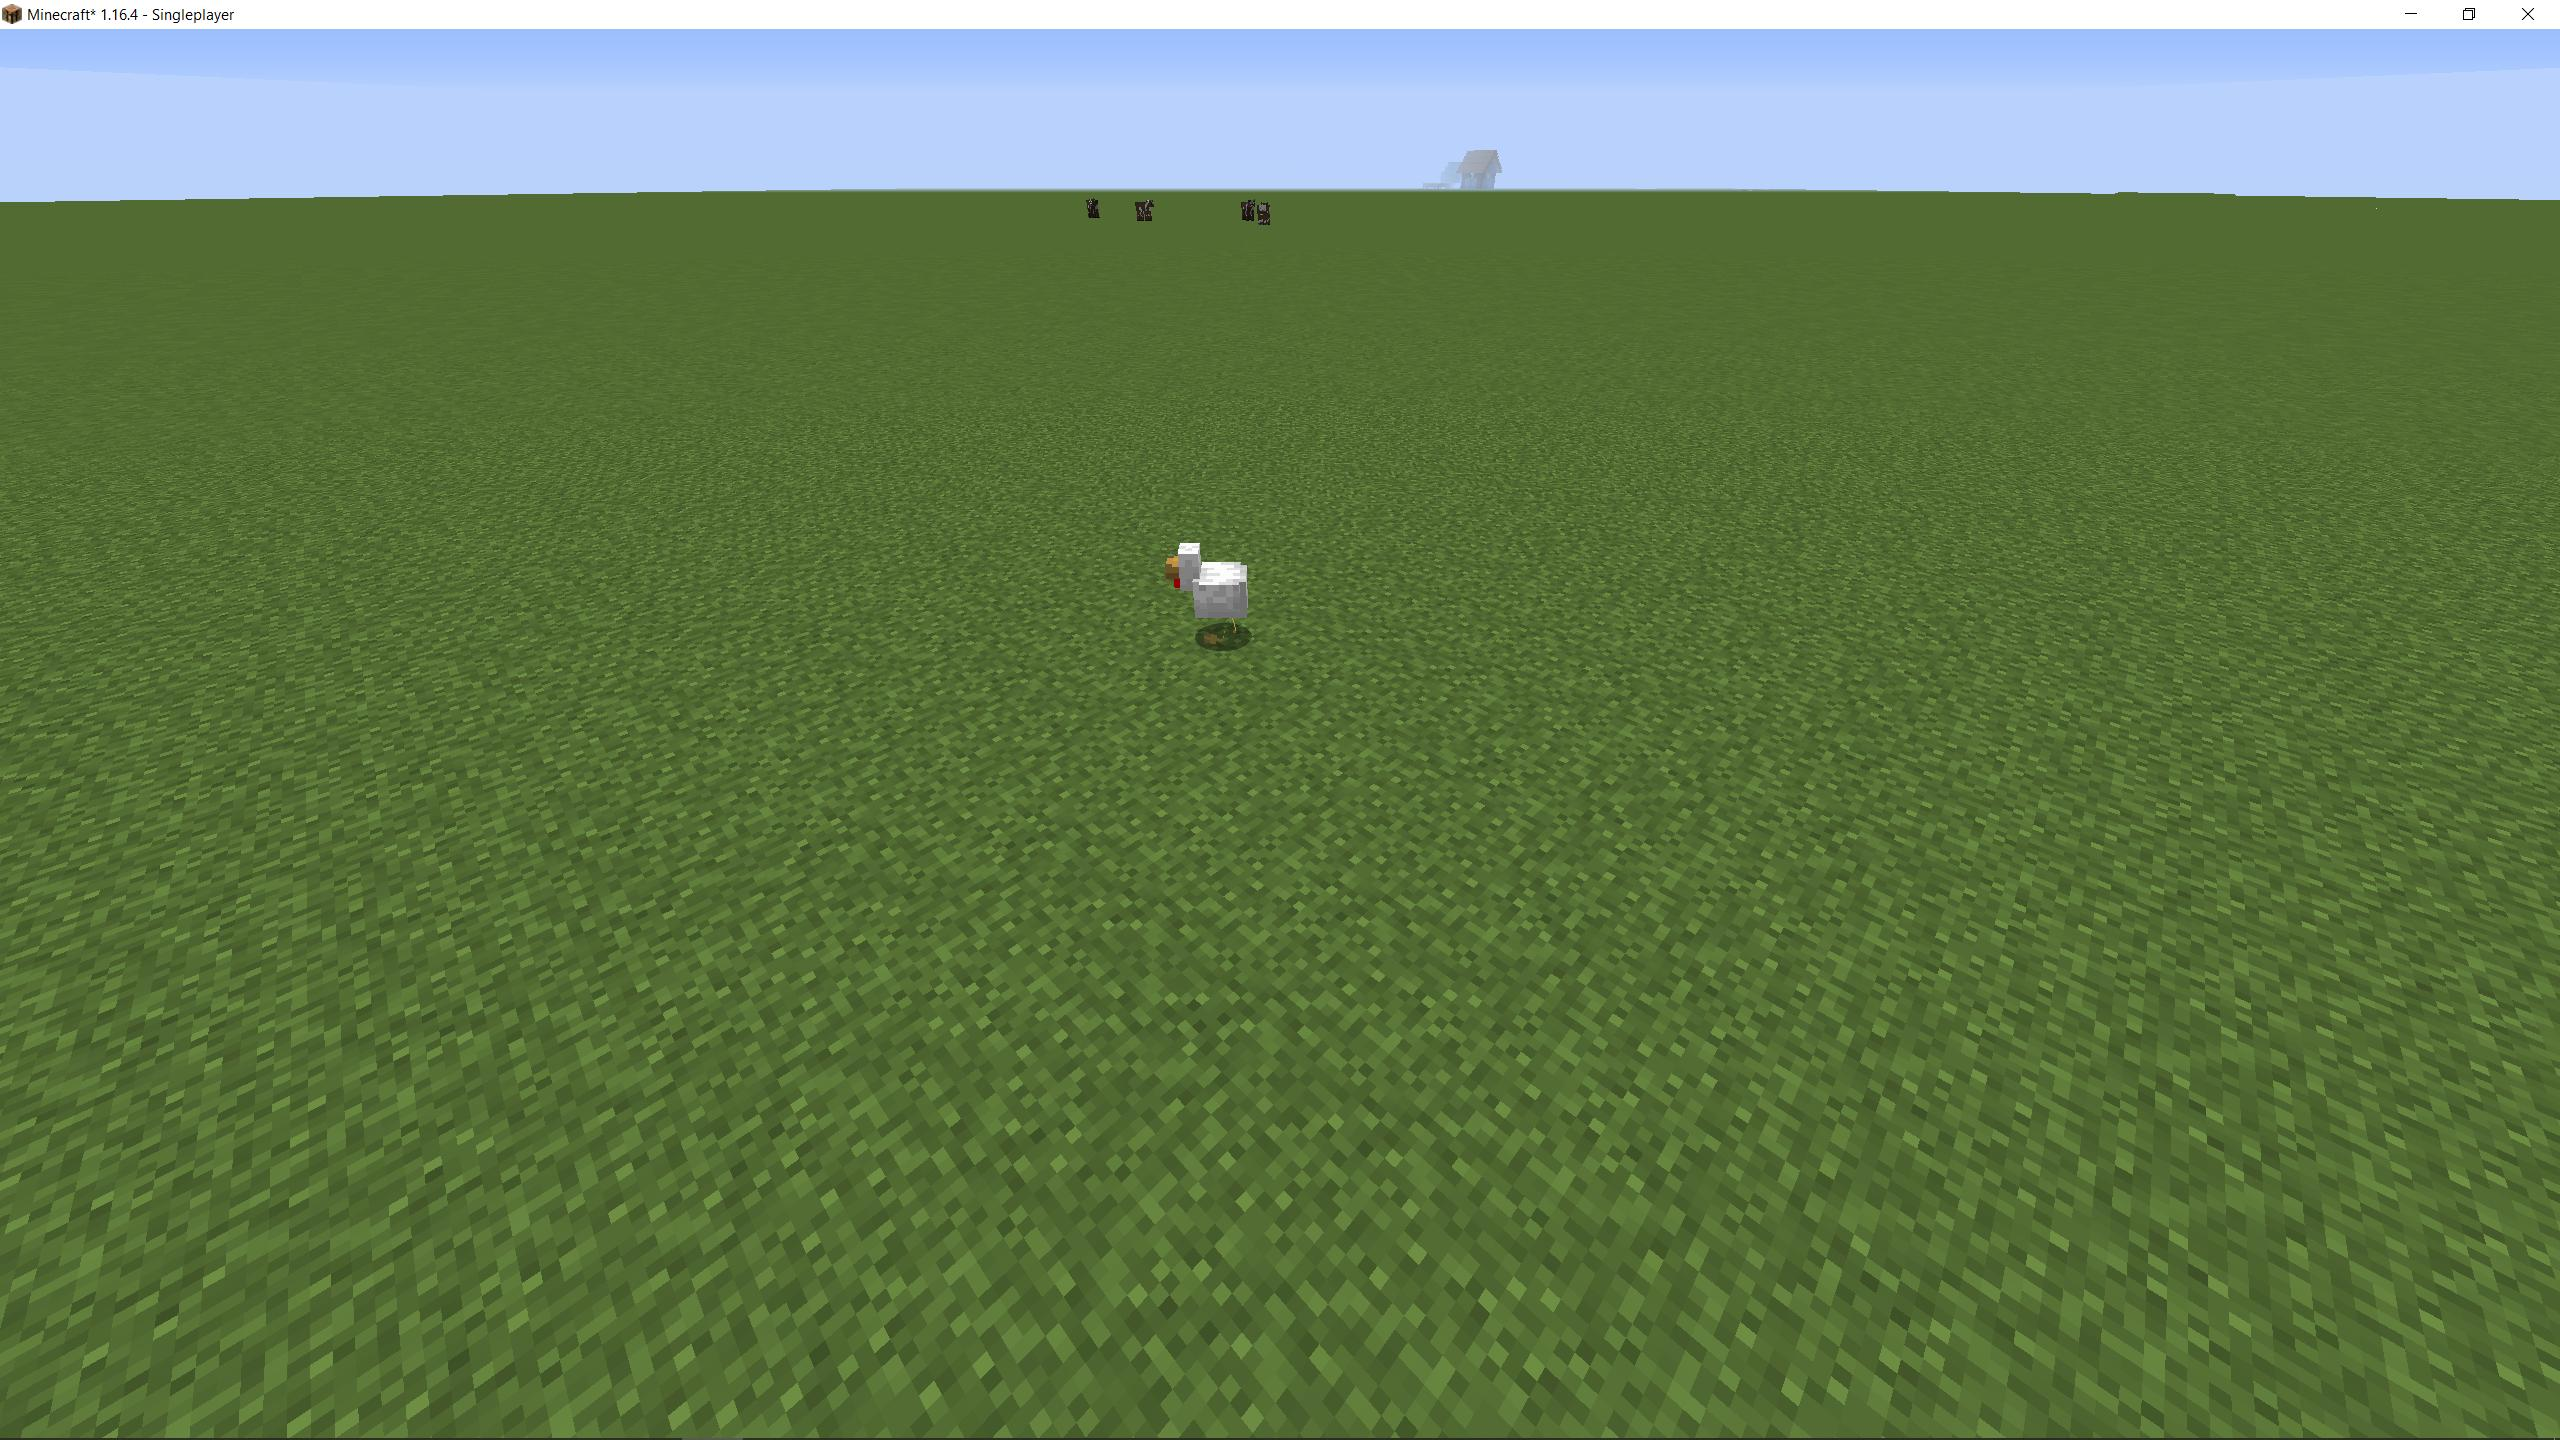chicken: (1164, 535, 1261, 652)
